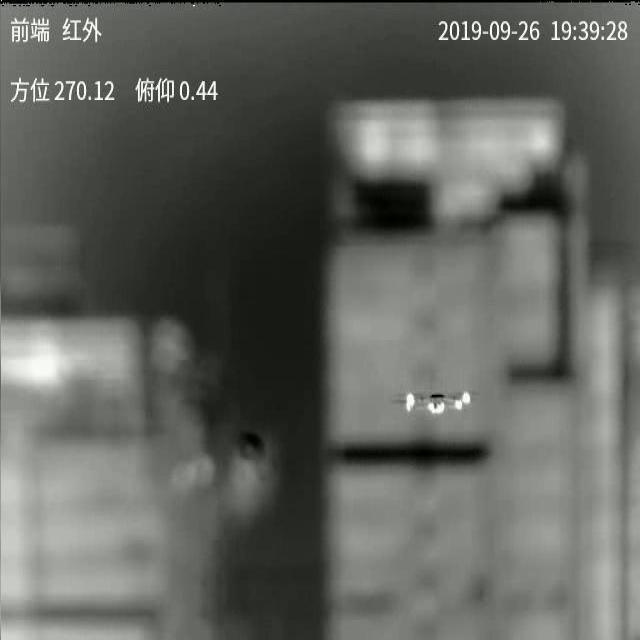drone: (392, 390, 483, 414)
